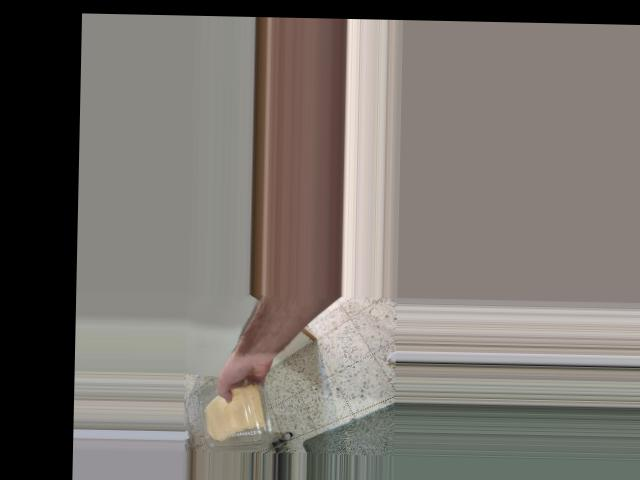cheese: (201, 381, 272, 446)
